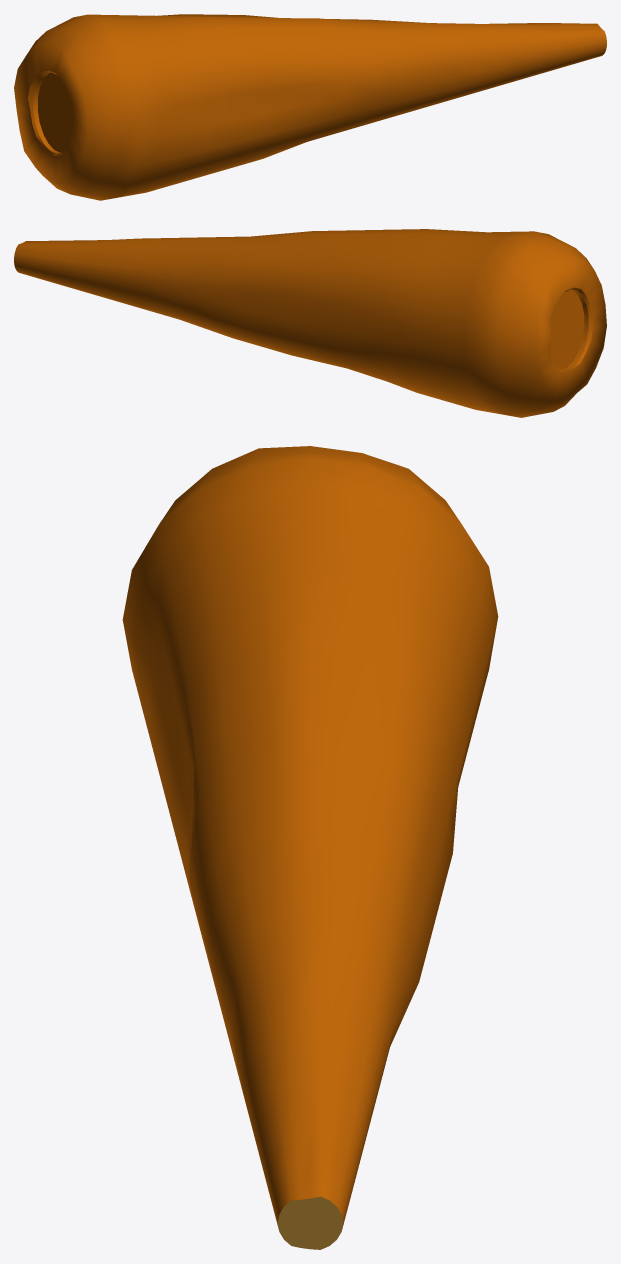
The model's file is mesh_Carrot_Stage02.fbx.
3 renders of one model, top to bottom at view 1: azimuth 30°, elevation 25°; view 2: azimuth 150°, elevation 25°; view 3: azimuth 270°, elevation 25°, orthographic. The views are drawn at different scales.
Parts seen in each view (by area): view 1: mesh_Carrot_Stage02; view 2: mesh_Carrot_Stage02; view 3: mesh_Carrot_Stage02.
Part boxes in pixels (left/top/right/bottom): mesh_Carrot_Stage02: left=14, top=14, right=606, bottom=200; mesh_Carrot_Stage02: left=14, top=229, right=606, bottom=417; mesh_Carrot_Stage02: left=122, top=446, right=498, bottom=1249.
Bounding box in the file's own units: 0.1743 × 0.0519 × 0.051.
